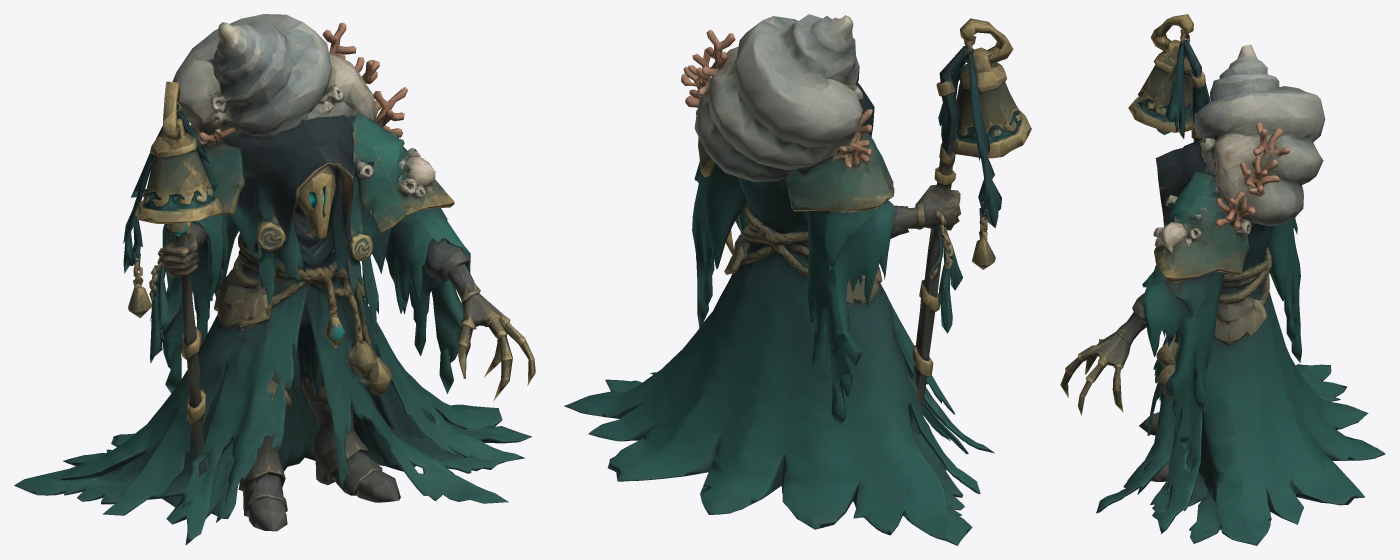
The model's file is boss_tidecaller.glb.
The picture shows the model from 3 angles, left to right: view 1: azimuth 30°, elevation 25°; view 2: azimuth 150°, elevation 25°; view 3: azimuth 270°, elevation 25°; orthographic projection. The views are drawn at different scales.
Visible parts, largest first — view 1: Body, Shell, Bell, ArmL, Staff; view 2: Body, Shell, Bell, Staff, ArmL; view 3: Body, Shell, ArmL, Bell, Staff.
Boxes of the visible parts, x1,y1,x2,y2 form: Body: [14, 57, 531, 545]; Shell: [172, 14, 388, 175]; Bell: [123, 131, 222, 265]; ArmL: [414, 179, 535, 401]; Staff: [146, 81, 200, 474]; Body: [564, 66, 998, 545]; Shell: [681, 14, 894, 219]; Bell: [923, 75, 1031, 221]; Staff: [919, 18, 1013, 449]; ArmL: [686, 137, 740, 345]; Body: [1085, 61, 1385, 545]; Shell: [1201, 44, 1325, 257]; ArmL: [1060, 247, 1237, 448]; Bell: [1128, 65, 1210, 141]; Staff: [1150, 14, 1204, 78].
Size of the model in its own units: 3.2 by 3.2 by 2.42.
1 material, 1 textured.
